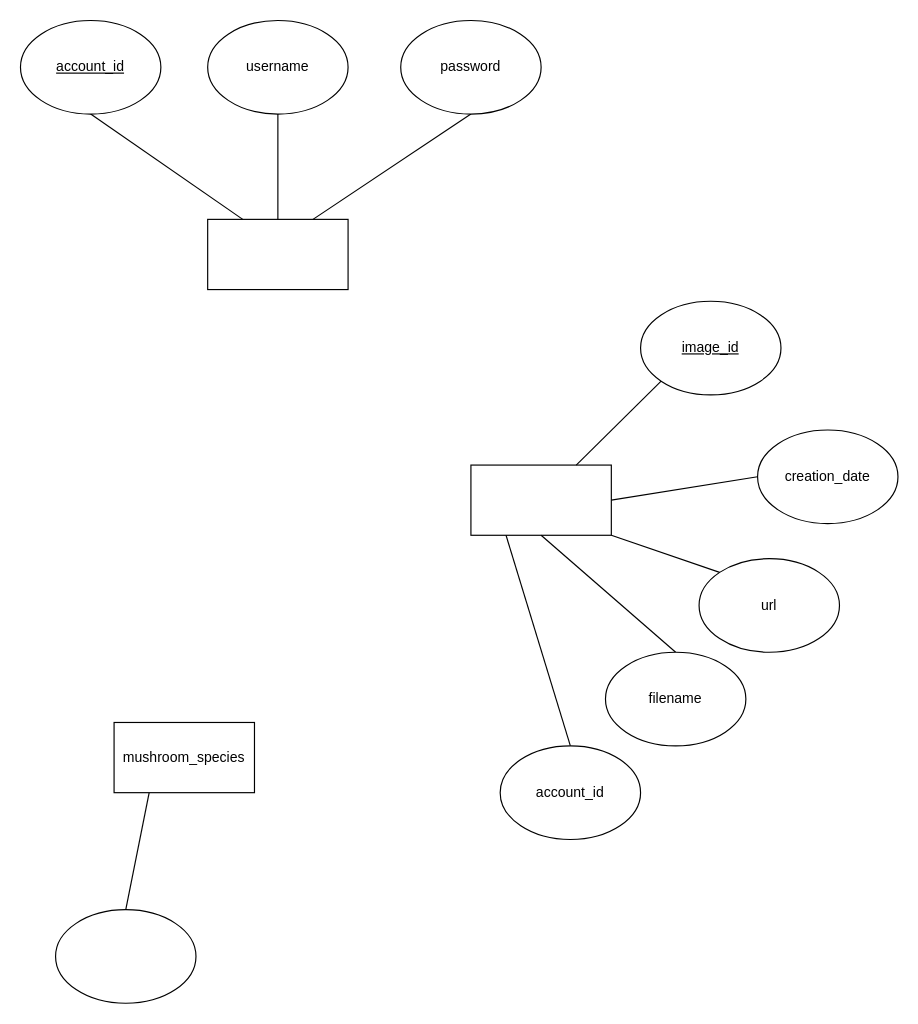
Image size: 918x1024. Some labels were removed from this diagram. Here are the shapes that lost their labels. From the top down, the centre of each, then its label:
At point 277,254: "user".
At point 540,499: "images".
At point 125,956: "name".
